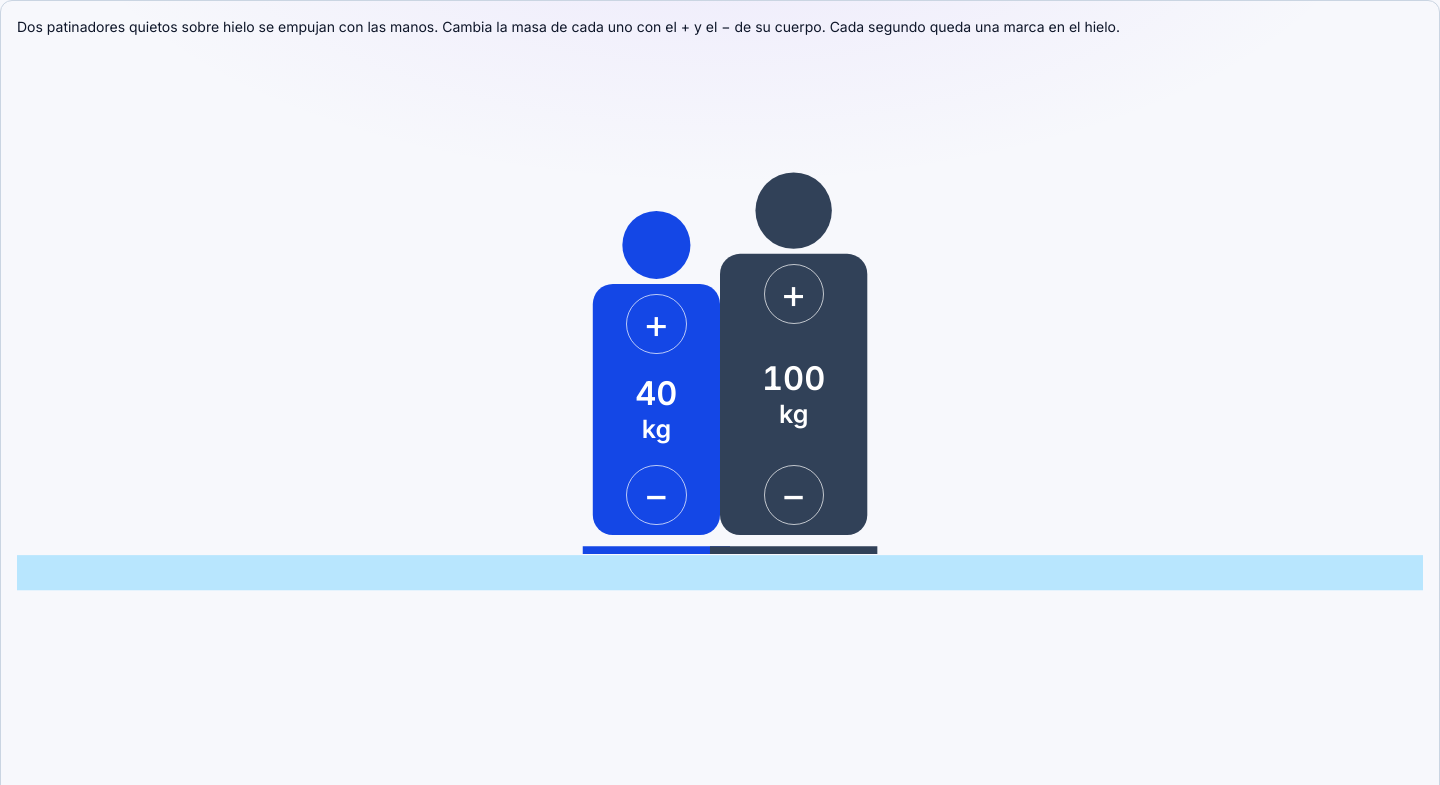
Test case: Skaters › stops the mass at 20 kg and 200 kg
Click the button named "Menos: Masa (izquierda)" at (656, 495), box x1=626 y1=465 x2=687 y2=525
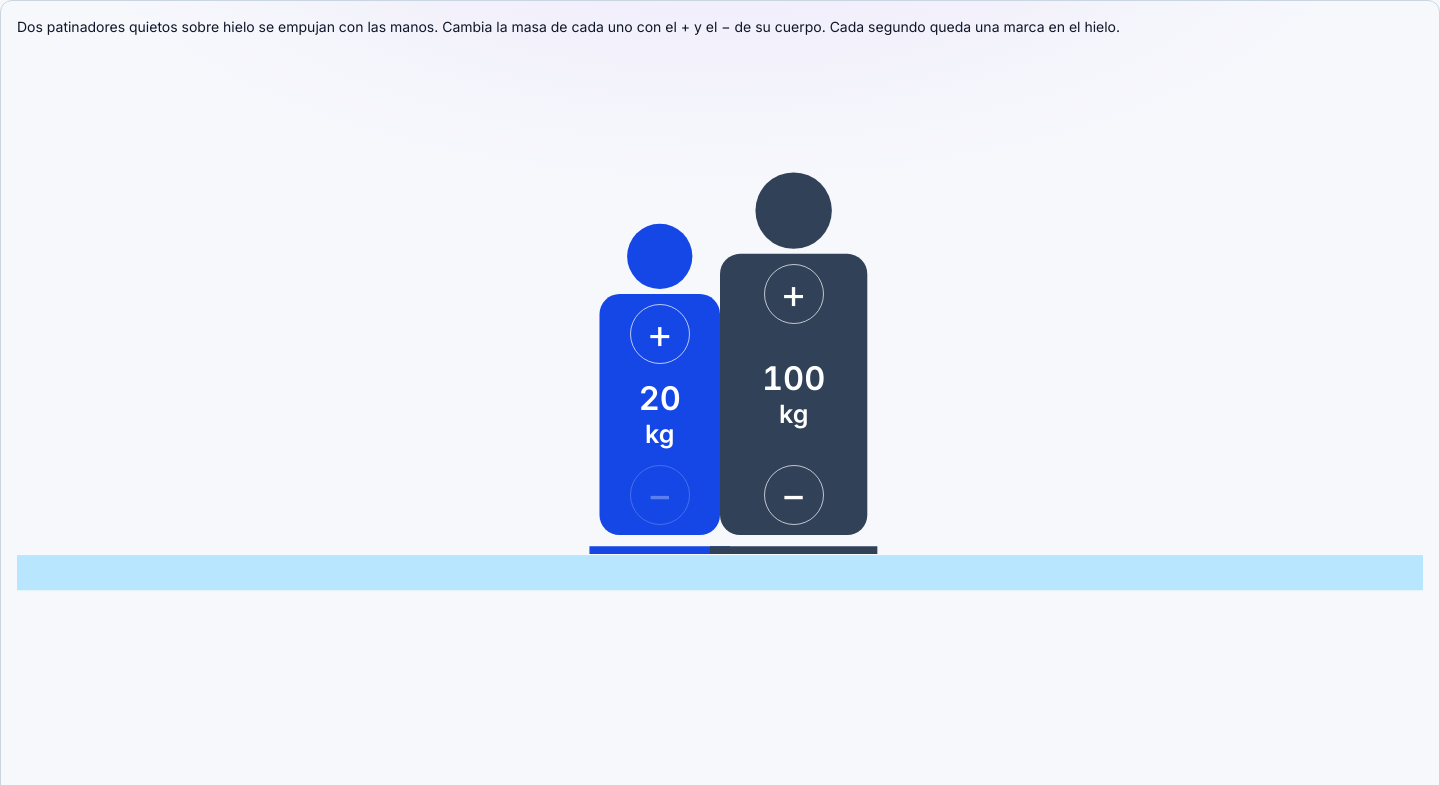
Now the button named "Menos: Masa (izquierda)" is disabled, box x1=630 y1=465 x2=690 y2=525
Click the button named "Más: Masa (derecha)" at (794, 294), box x1=764 y1=264 x2=824 y2=324
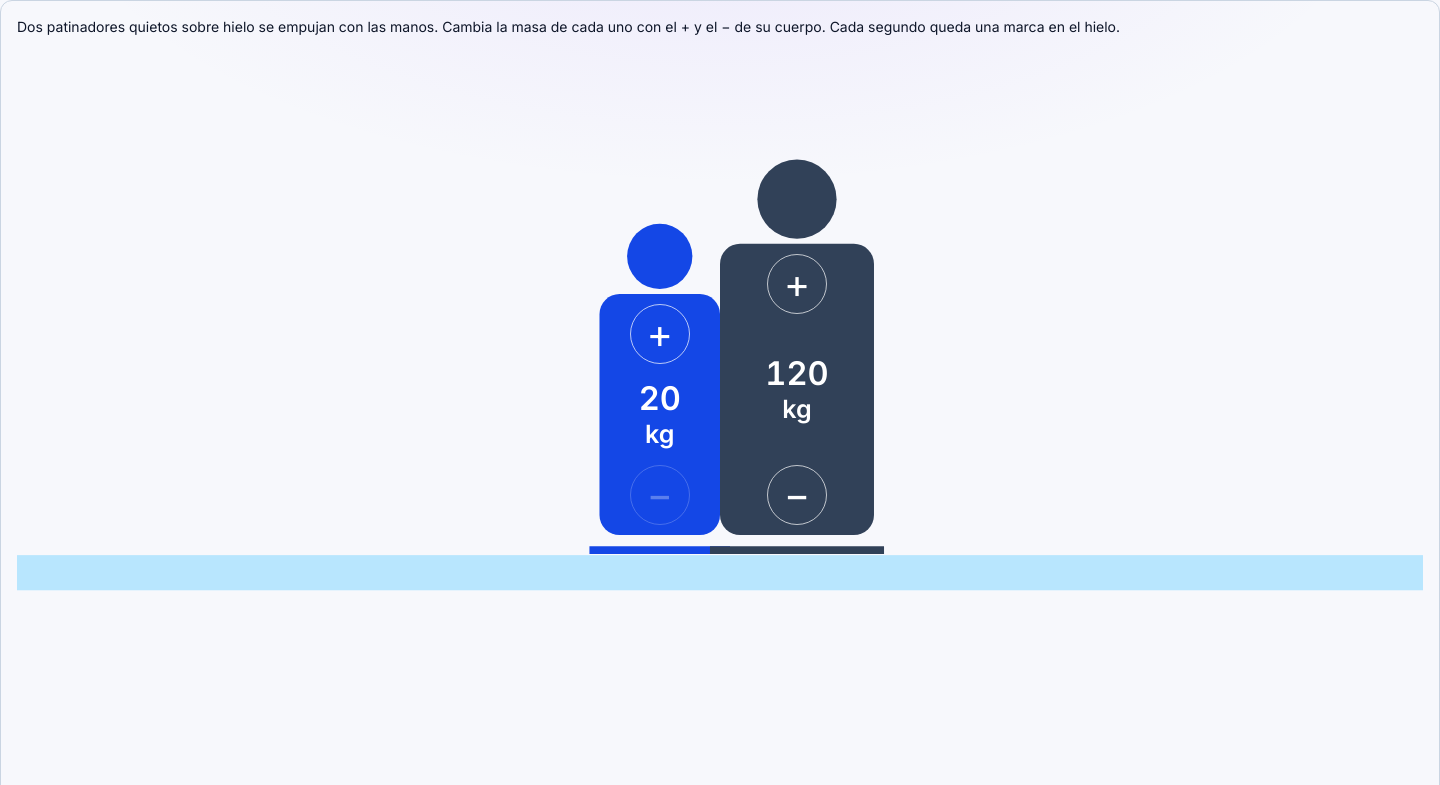
Click the button named "Más: Masa (derecha)" at (797, 284), box x1=767 y1=254 x2=827 y2=314
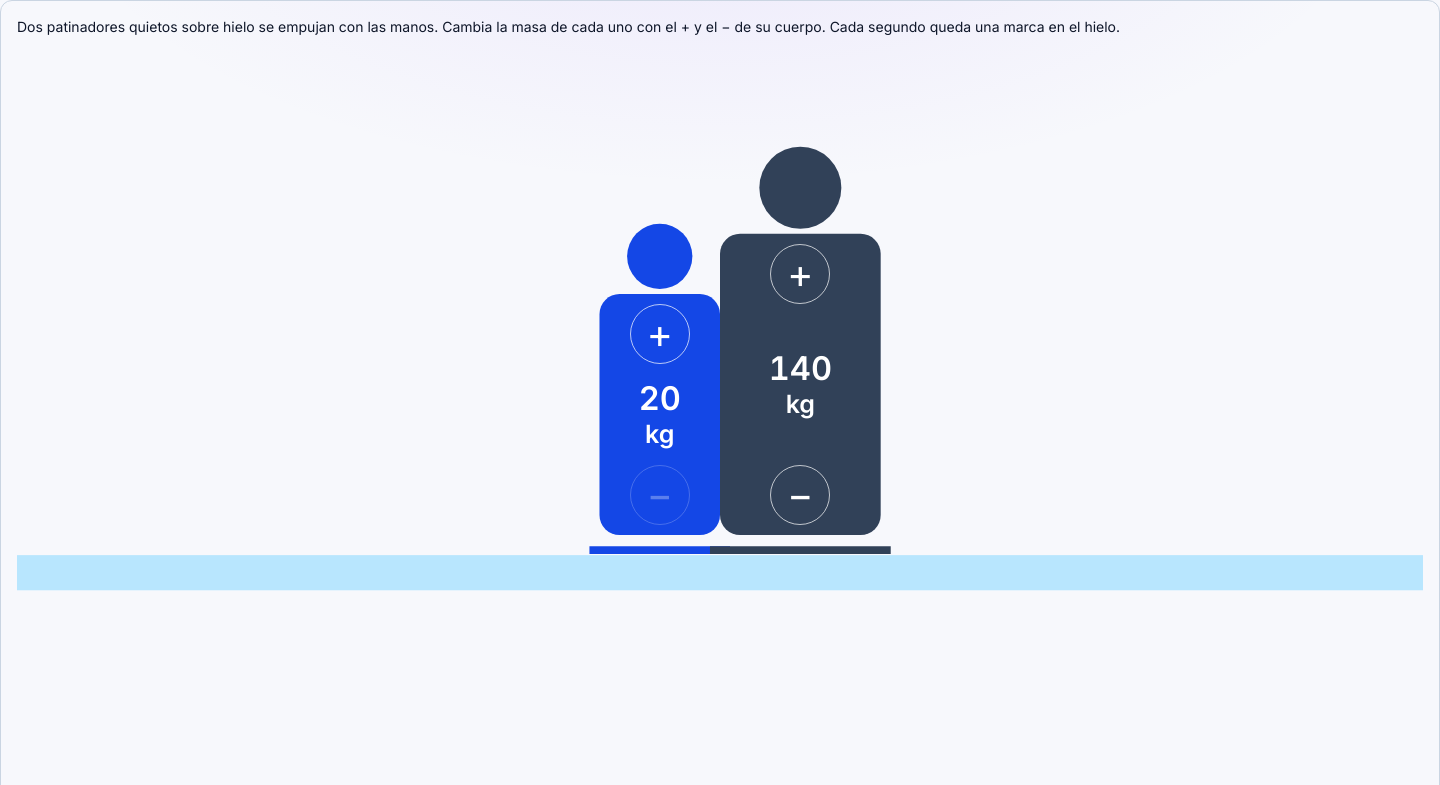
Click the button named "Más: Masa (derecha)" at (800, 274), box x1=770 y1=244 x2=830 y2=304
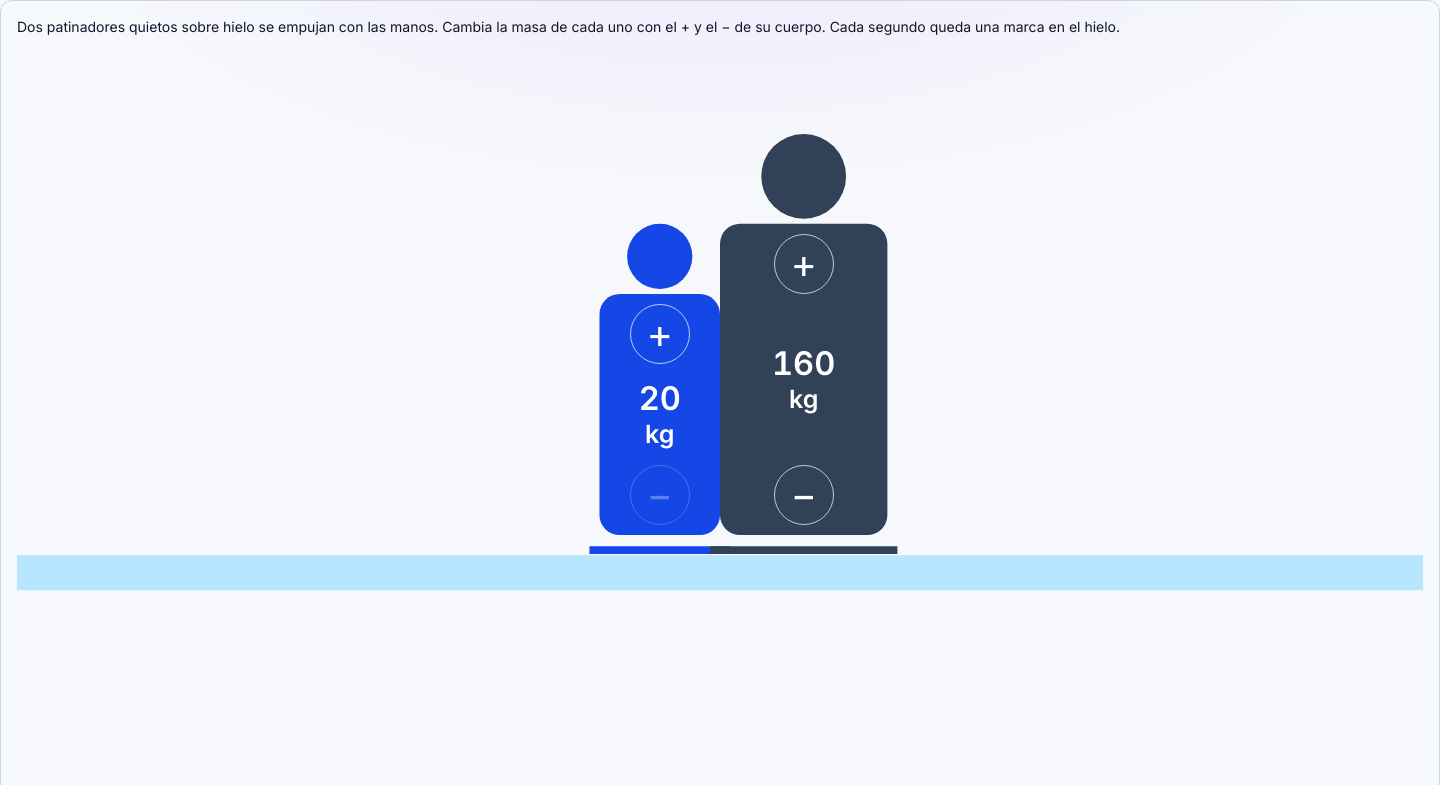
Click the button named "Más: Masa (derecha)" at (804, 264), box x1=774 y1=234 x2=834 y2=294
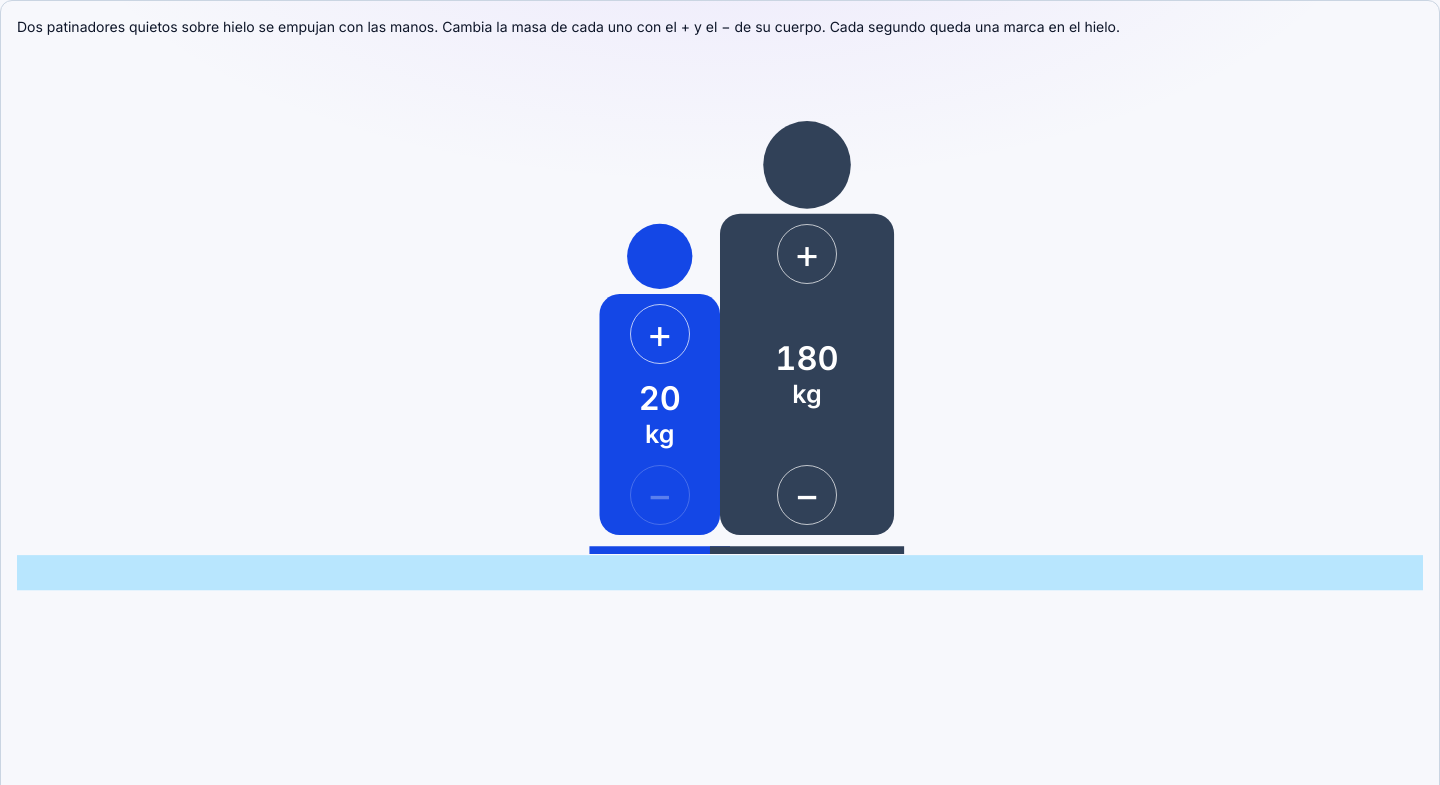
Click the button named "Más: Masa (derecha)" at (807, 254), box x1=777 y1=224 x2=837 y2=284
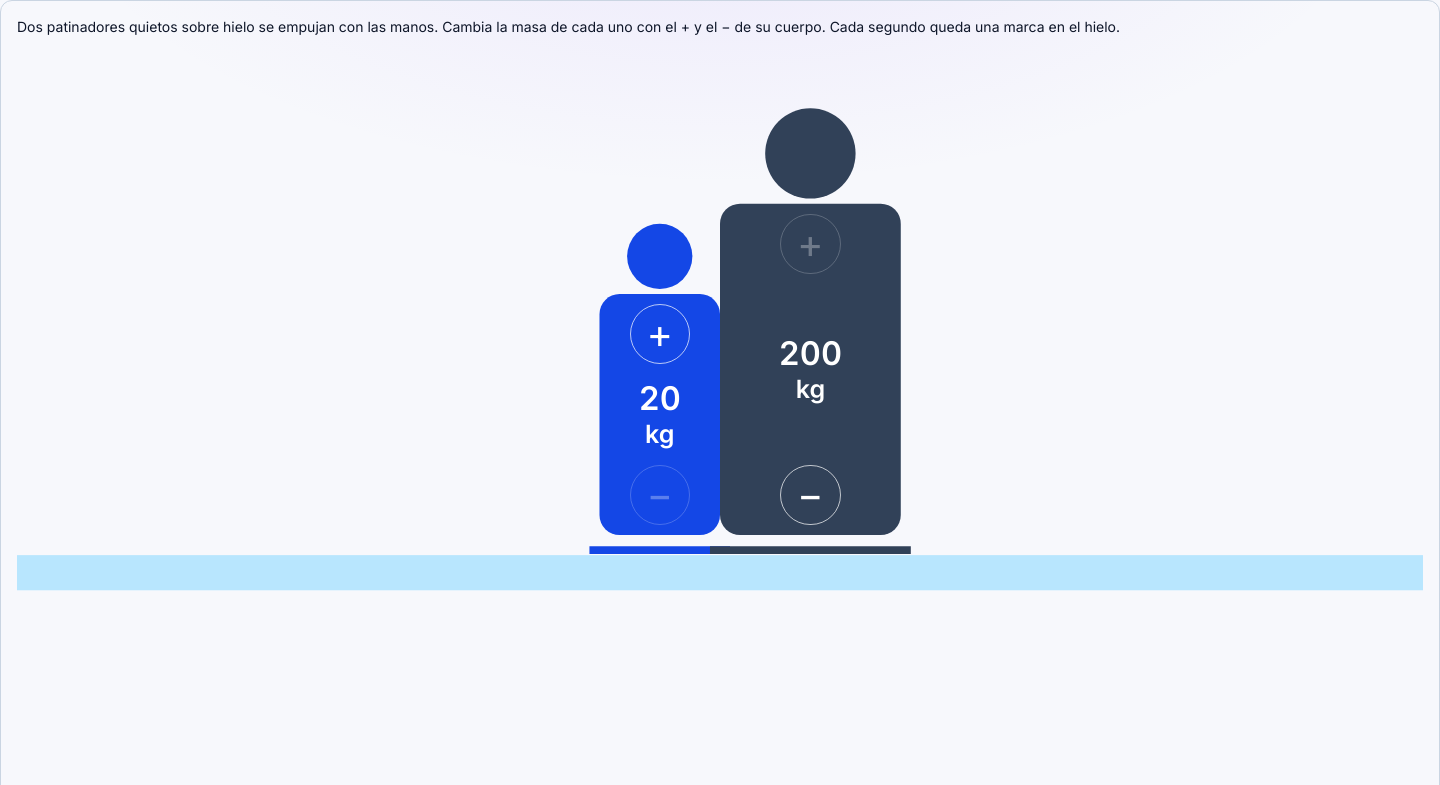
Now the button named "Más: Masa (derecha)" is disabled, box x1=780 y1=214 x2=841 y2=274
